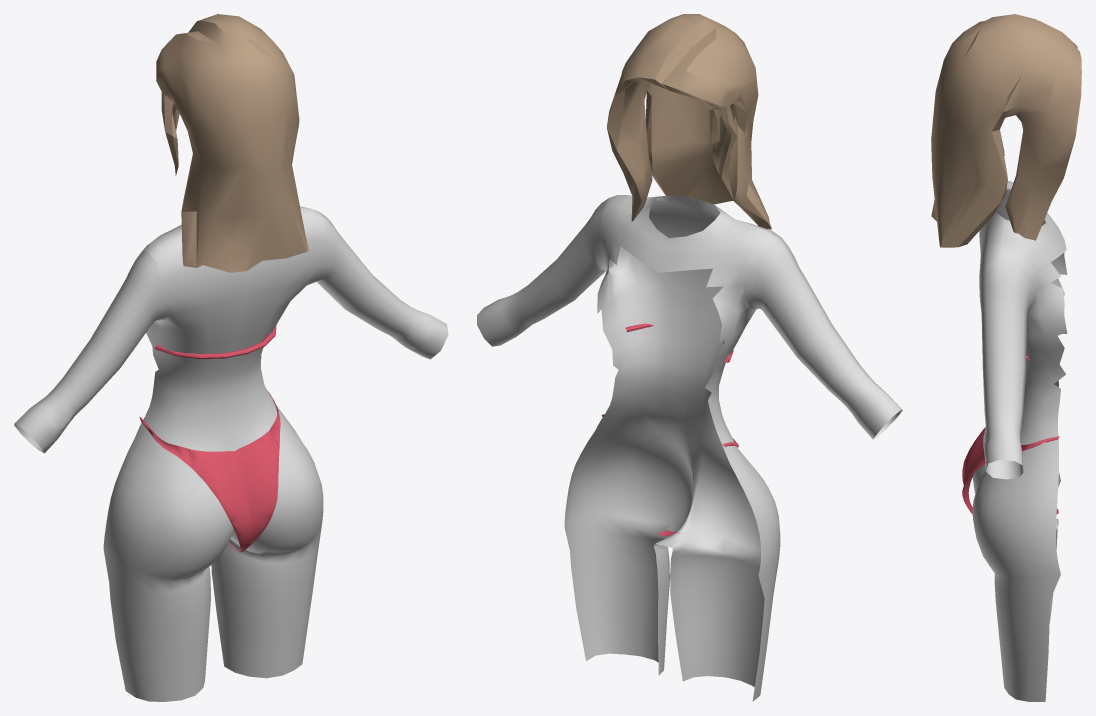
Rendered from genshin_3.fbx.
3 renders of one model, left to right at view 1: azimuth 30°, elevation 25°; view 2: azimuth 150°, elevation 25°; view 3: azimuth 270°, elevation 25°, orthographic. The views are drawn at different scales.
Parts seen in each view (by area): view 1: Object_5, elf.010, underpants2_LP.002, Torus.001; view 2: Object_5, elf.010; view 3: Object_5, elf.010, underpants2_LP.002.
Part boxes in pixels (x1,y1,x2,y2): Object_5: (14,206,448,701); elf.010: (156,14,308,272); underpants2_LP.002: (139,392,280,552); Torus.001: (155,325,276,358); Object_5: (477,195,902,701); elf.010: (607,14,771,229); Object_5: (972,181,1067,701); elf.010: (931,14,1081,247); underpants2_LP.002: (962,427,1059,513).
Size of the model in its own units: 78.95 by 118 by 24.95.
